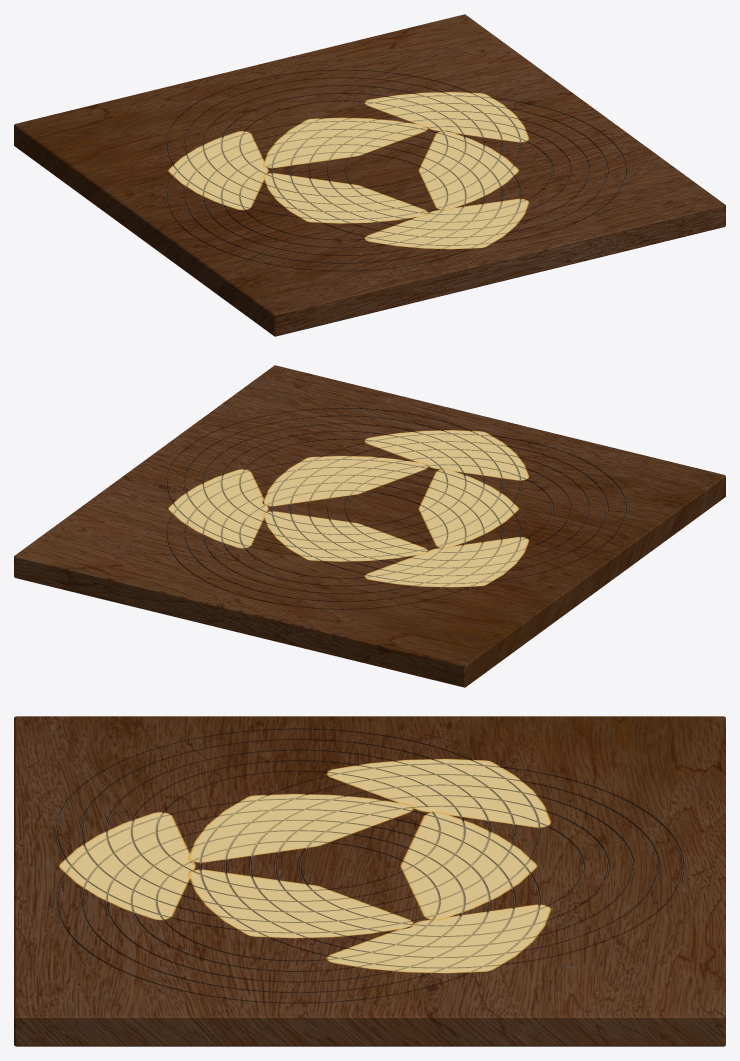
File: board_L4.glb
3 renders of one model, top to bottom at view 1: azimuth 30°, elevation 25°; view 2: azimuth 150°, elevation 25°; view 3: azimuth 270°, elevation 25°, orthographic. The views are drawn at different scales.
Parts seen in each view (by area): view 1: Board; view 2: Board; view 3: Board.
Boxes of the visible parts, x1=… form: Board: x1=14, y1=14, x2=725, y2=336; Board: x1=14, y1=365, x2=725, y2=687; Board: x1=14, y1=716, x2=725, y2=1046.
Size of the model in its own units: 0.6277 by 0.03 by 0.6277.
2 materials, 1 textured.
